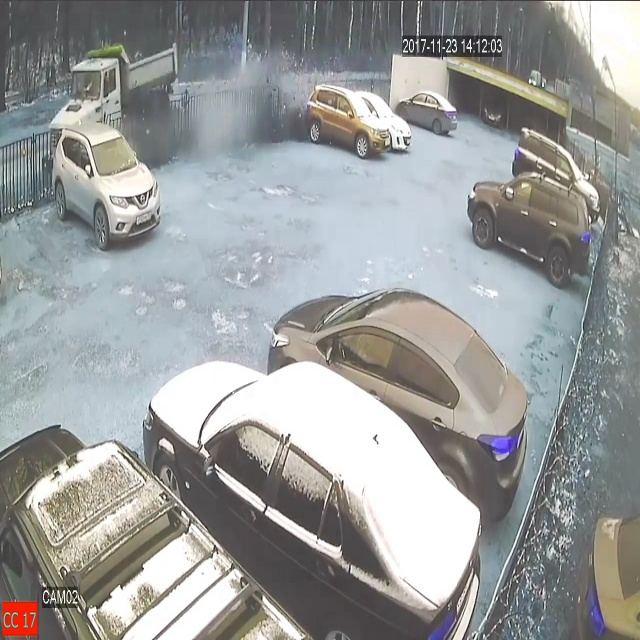acc: (51, 45, 295, 151)
